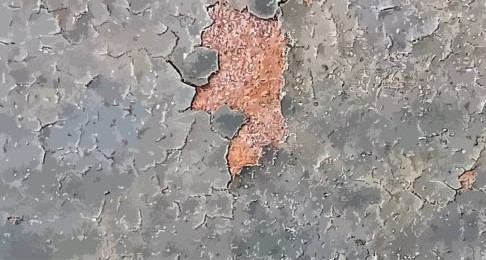Corrosion: (190, 1, 289, 177), (457, 168, 478, 190)
